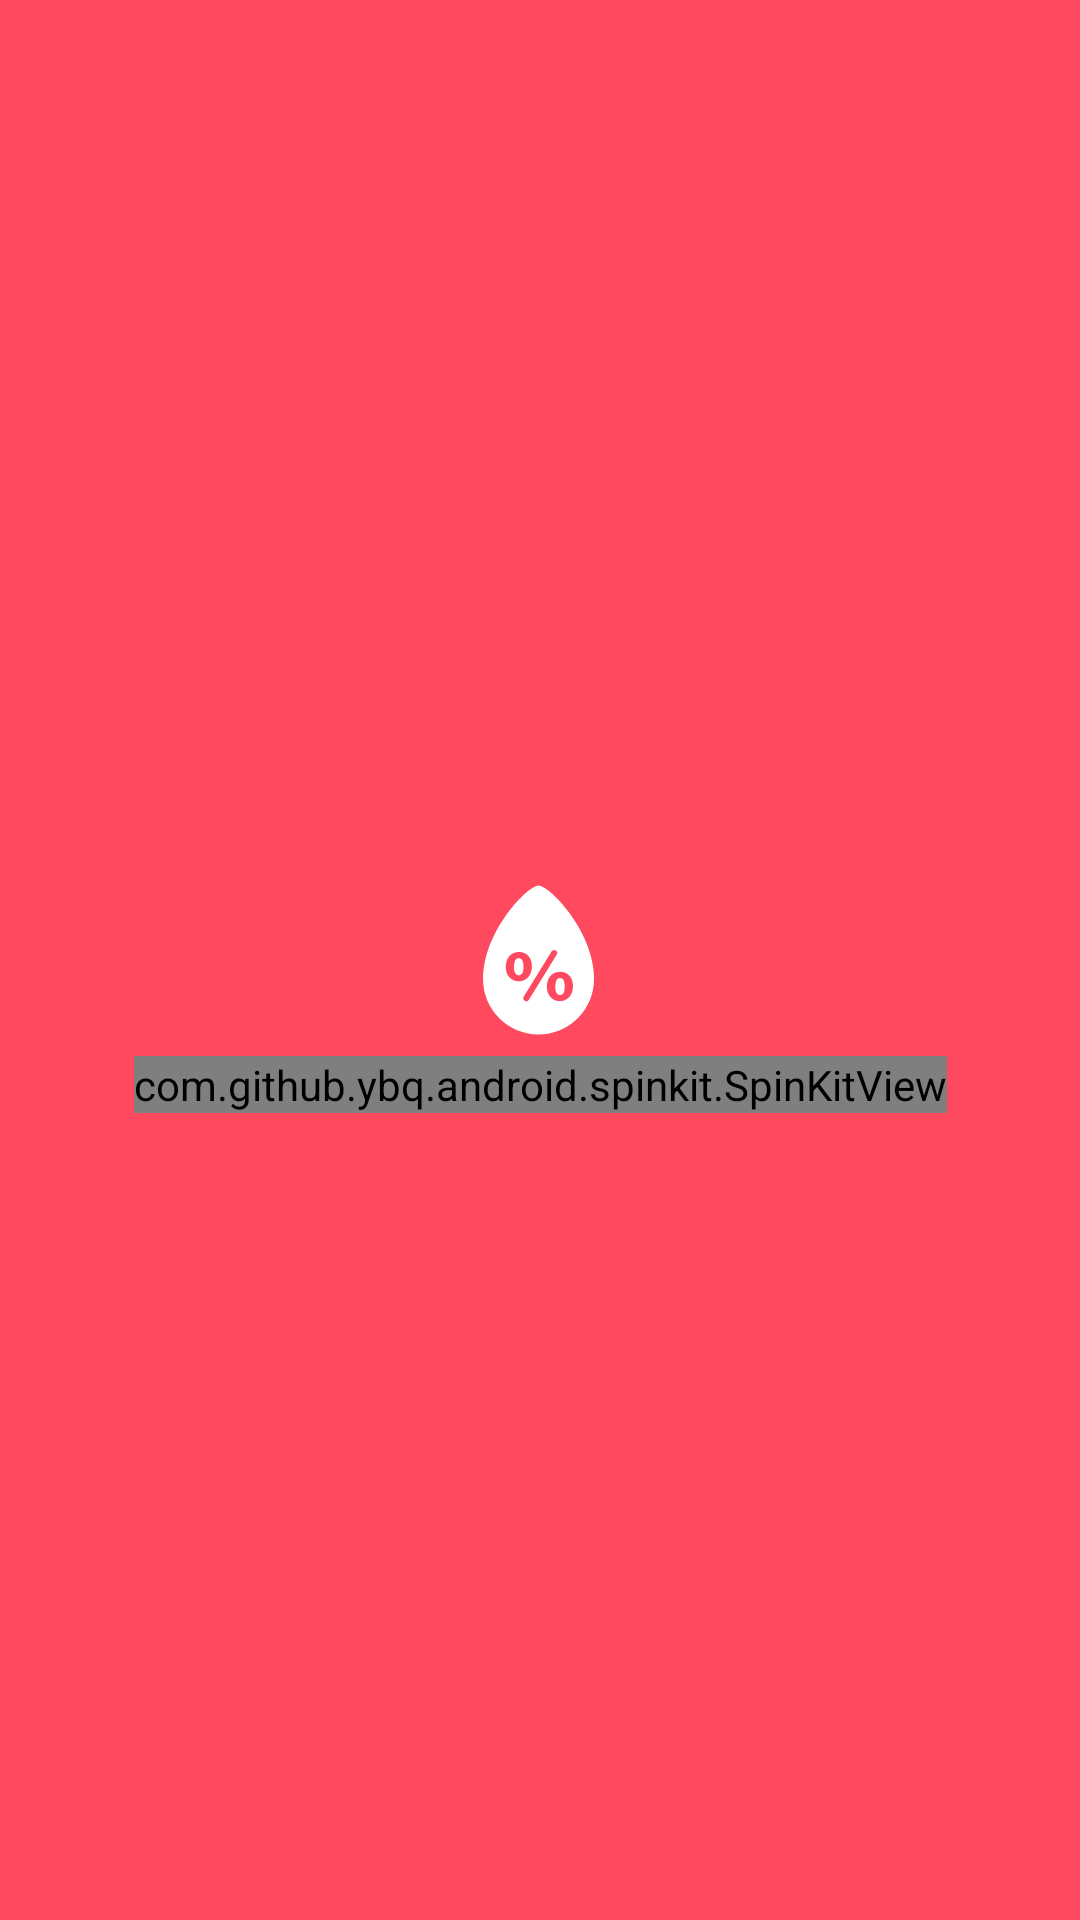

Screen size 1080px x 1920px. Icon name, then its center in pixels as point (x, y):
percentage: point (538, 960)
